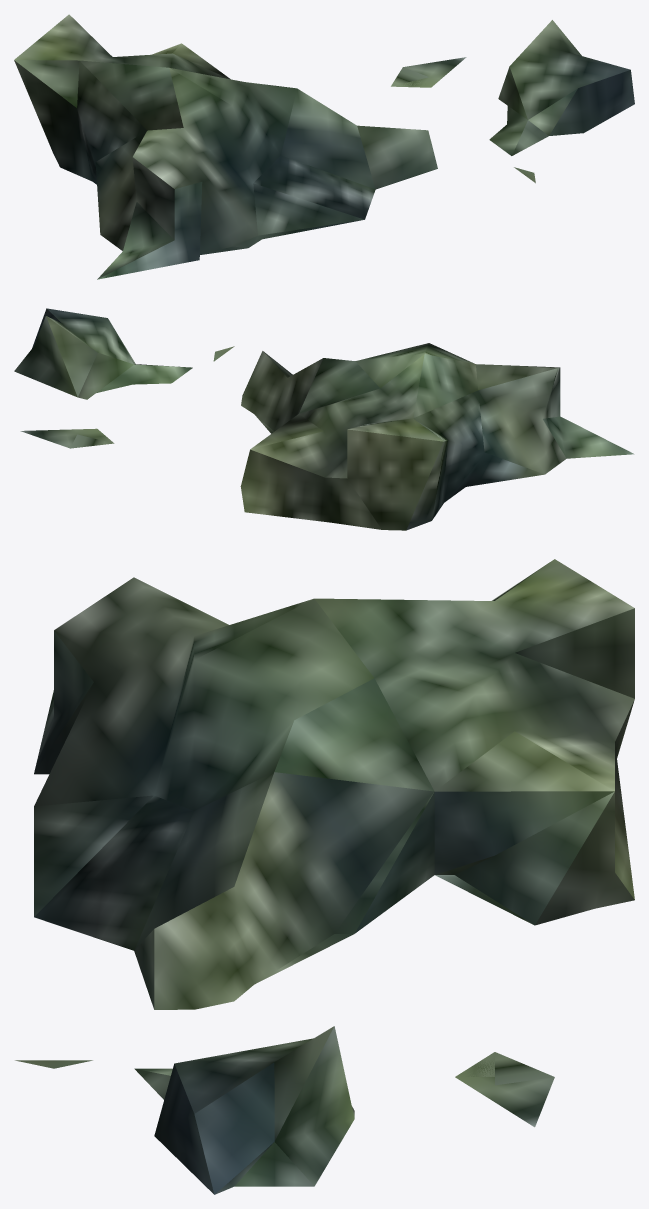
3 renders of one model, top to bottom at view 1: azimuth 30°, elevation 25°; view 2: azimuth 150°, elevation 25°; view 3: azimuth 270°, elevation 25°, orthographic. The views are drawn at different scales.
Visible parts, largest first — view 1: 30436272704370607416_0; view 2: 30436272704370607416_0; view 3: 30436272704370607416_0.
Boxes of the visible parts, x1,y1,x2,y2 form: 30436272704370607416_0: [14, 14, 634, 279]; 30436272704370607416_0: [14, 308, 634, 530]; 30436272704370607416_0: [15, 559, 634, 1194].
Size of the model in its own units: 9.2 by 1.85 by 4.78.
1 material, 1 textured.
